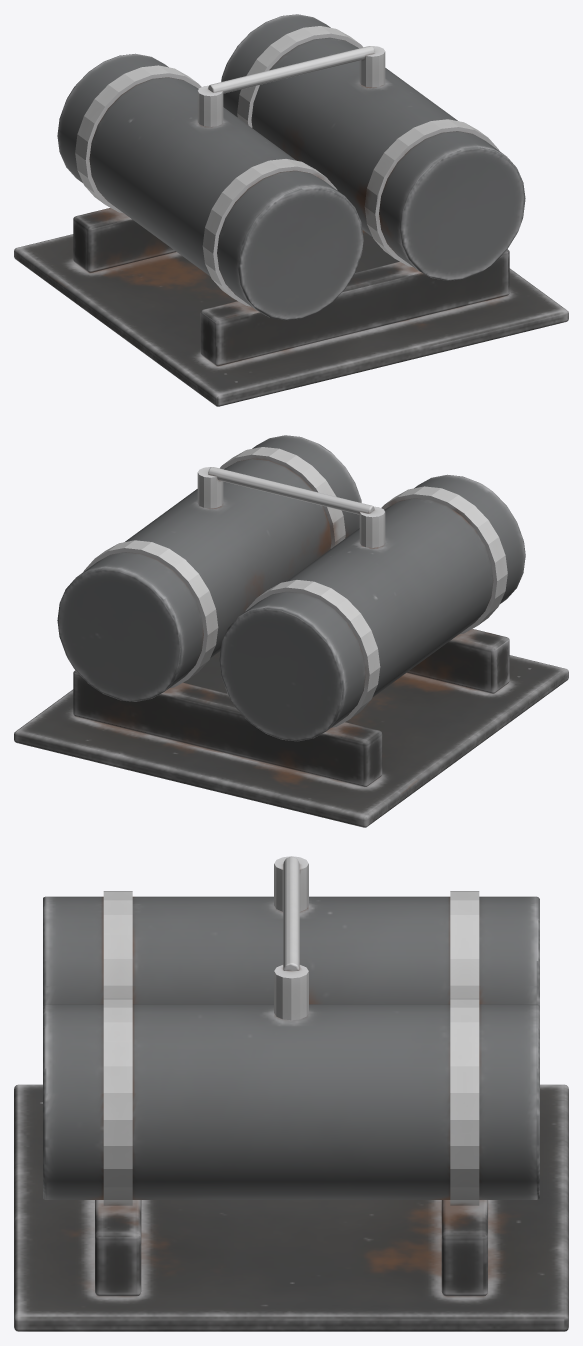
Rendered from SM_PartO2Tank.glb.
3 renders of one model, top to bottom at view 1: azimuth 30°, elevation 25°; view 2: azimuth 150°, elevation 25°; view 3: azimuth 270°, elevation 25°, orthographic. The views are drawn at different scales.
Parts seen in each view (by area): view 1: SM_PartO2Tank; view 2: SM_PartO2Tank; view 3: SM_PartO2Tank.
Boxes of the visible parts, x1,y1,x2,y2 form: SM_PartO2Tank: [14, 14, 568, 406]; SM_PartO2Tank: [14, 435, 568, 827]; SM_PartO2Tank: [14, 856, 568, 1331].
Bounding box in the file's own units: 0.96 × 0.584 × 0.96.
Materials: 3 (3 with a texture image).
